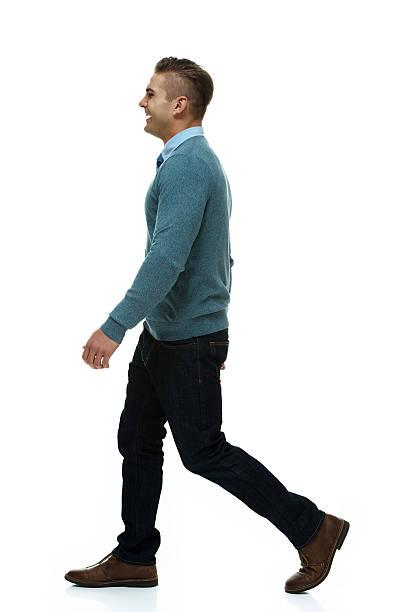sweater: (94, 133, 234, 346)
trousers: (114, 323, 326, 563)
